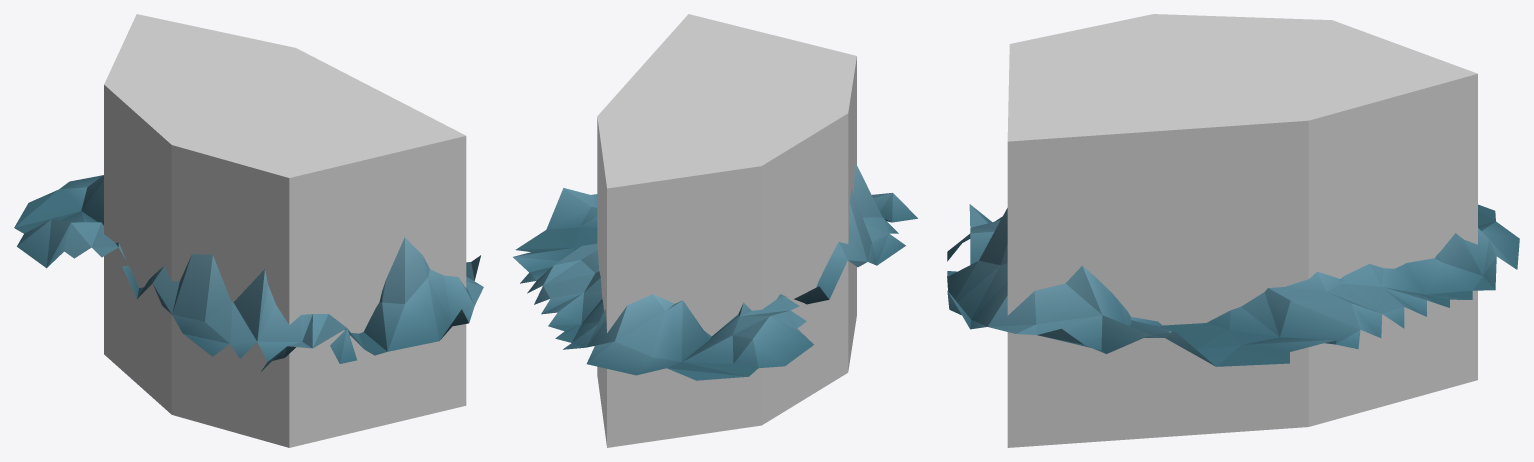
Rendered from island_small_ice_Collection_5.fbx.
3 views of the same model, side by side, from view 1: azimuth 30°, elevation 25°; view 2: azimuth 150°, elevation 25°; view 3: azimuth 270°, elevation 25° (orthographic). The views are drawn at different scales.
Visible parts, largest first — view 1: islandRock_5_col, islandRock_5; view 2: islandRock_5_col, islandRock_5; view 3: islandRock_5_col, islandRock_5.
Part boxes in pixels (left/top/right/bottom): islandRock_5_col: left=104, top=14, right=466, bottom=447; islandRock_5: left=14, top=175, right=483, bottom=371; islandRock_5_col: left=597, top=14, right=856, bottom=447; islandRock_5: left=513, top=162, right=917, bottom=380; islandRock_5_col: left=1007, top=14, right=1477, bottom=447; islandRock_5: left=947, top=204, right=1519, bottom=366.
Size of the model in its own units: 2613 by 2033 by 3445.
